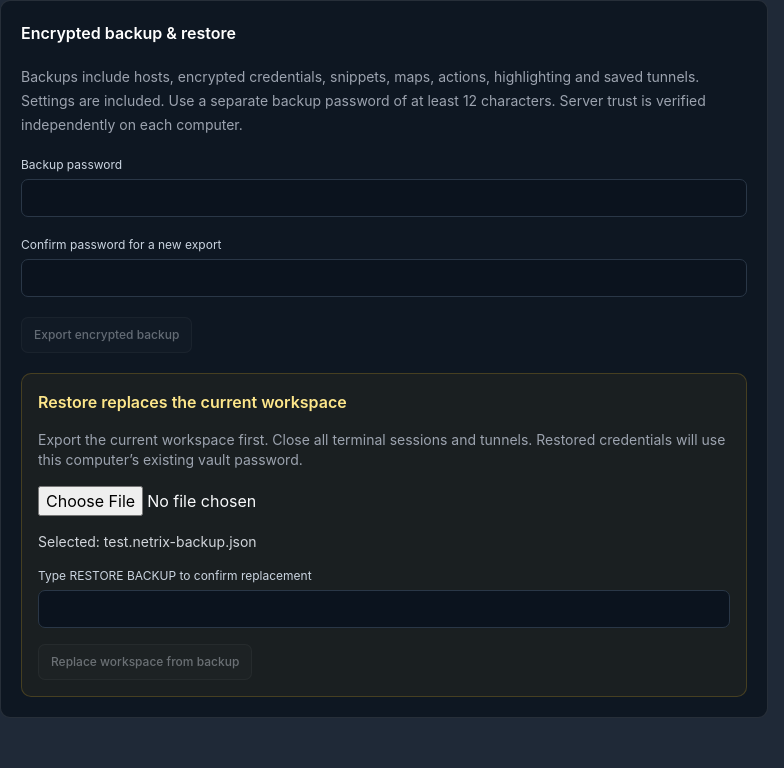
Test: connection management workflows › requires restore confirmation and surfaces a rejected archive without proceeding
Earlier steps of the test are not shown.
expect the button "Replace workspace from backup" is disabled: met, box left=38, top=644, right=252, bottom=680
expect the text "Selected: test.netrix-backup.json" is shown: met, box left=38, top=533, right=257, bottom=550
Type "wrong-password" into the password field labelled "Backup password" at (384, 198), box left=21, top=179, right=747, bottom=217
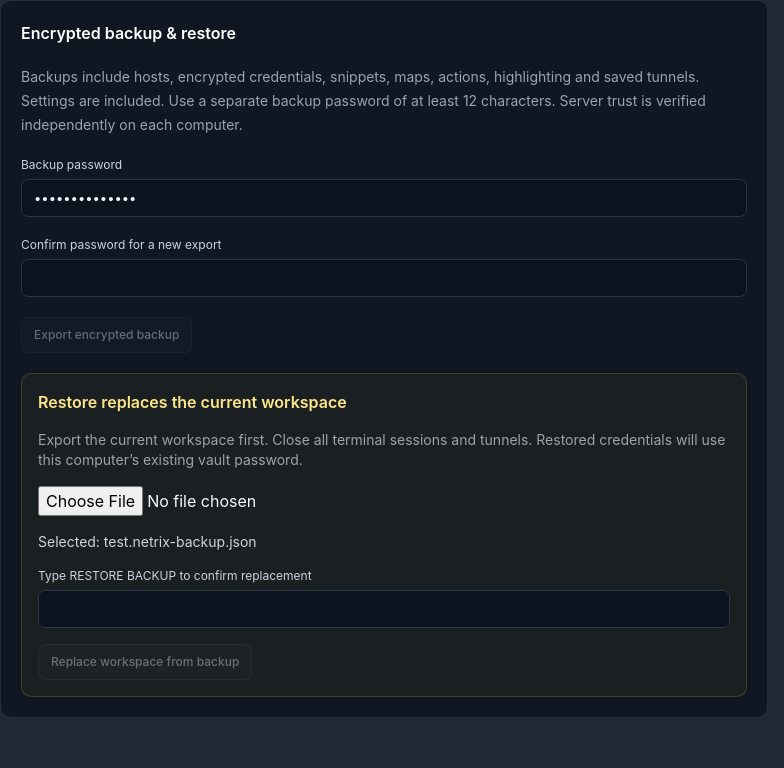
expect the button "Replace workspace from backup" is disabled: met, box left=38, top=644, right=252, bottom=680
Type "RESTORE BACKUP" into the field labelled "Type RESTORE BACKUP to confirm replacement" at (384, 609), box left=38, top=590, right=730, bottom=628
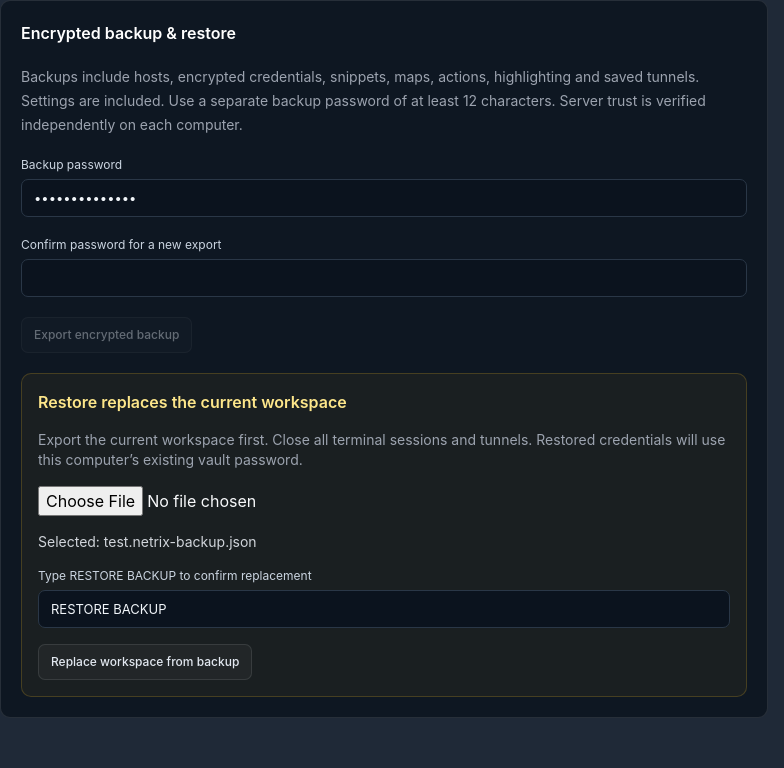
expect the button "Replace workspace from backup" is enabled: met
Click the button "Replace workspace from backup" at (145, 662), box left=38, top=644, right=252, bottom=680
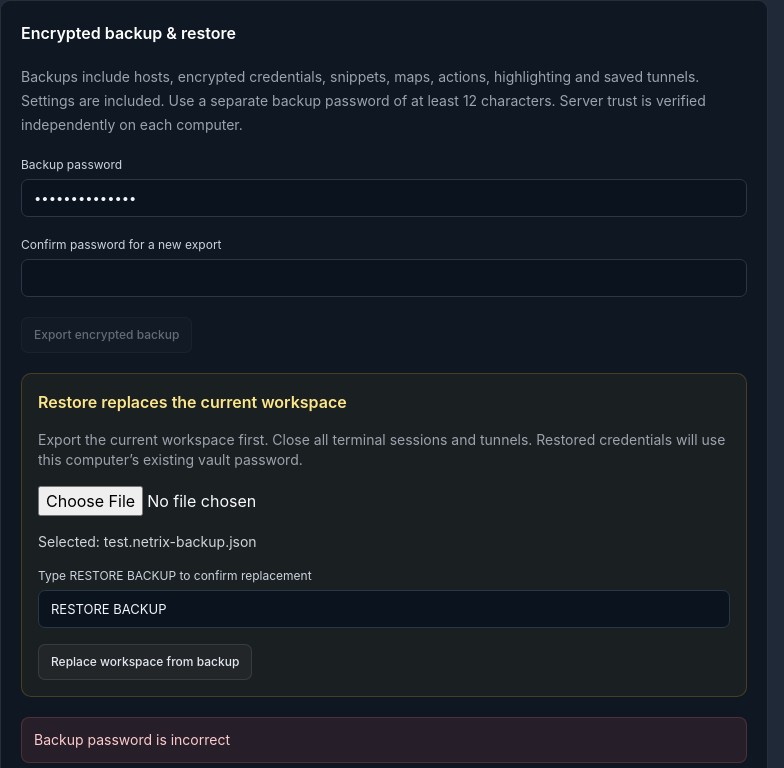
expect the text "Selected: test.netrix-backup.json" is shown: met, box left=38, top=533, right=257, bottom=550
expect the message reads "Backup password is incorrect": met, box left=34, top=731, right=230, bottom=748
